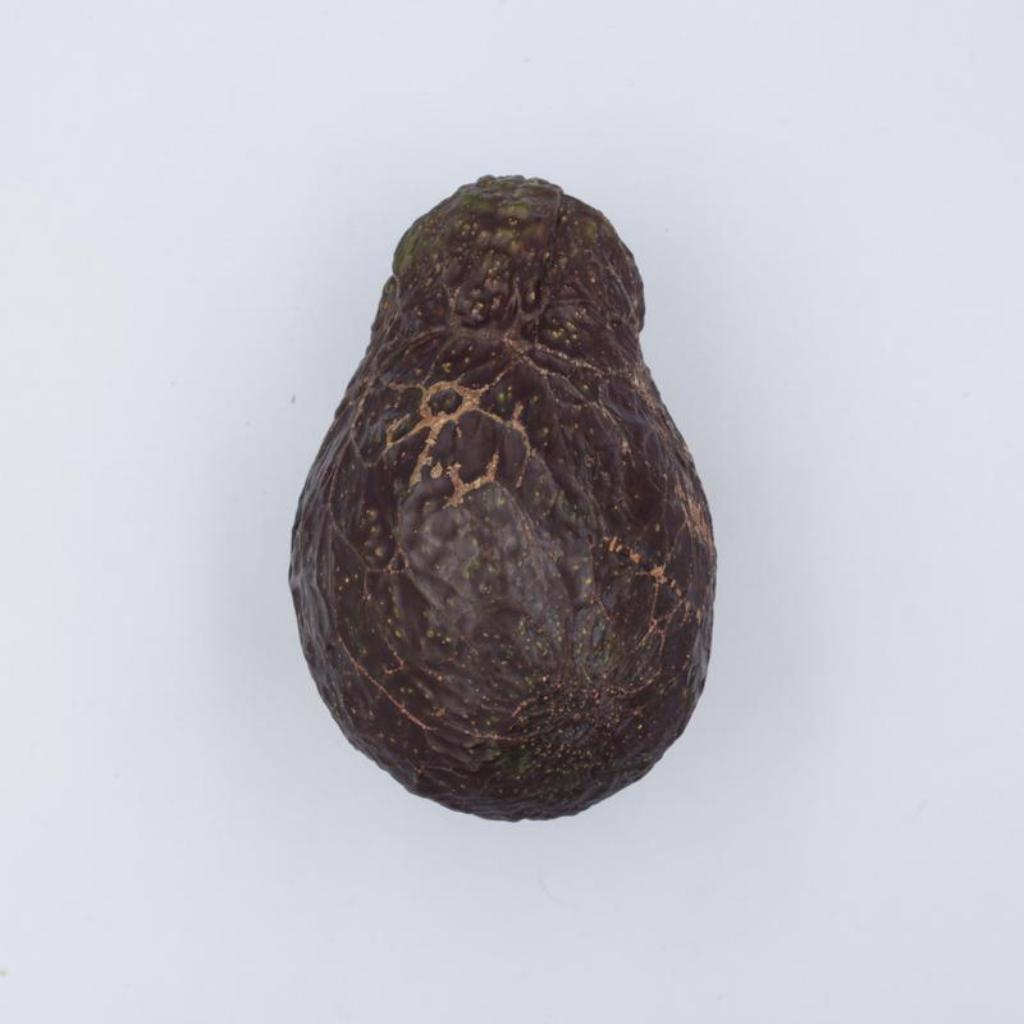scab: (289, 177, 714, 818)
